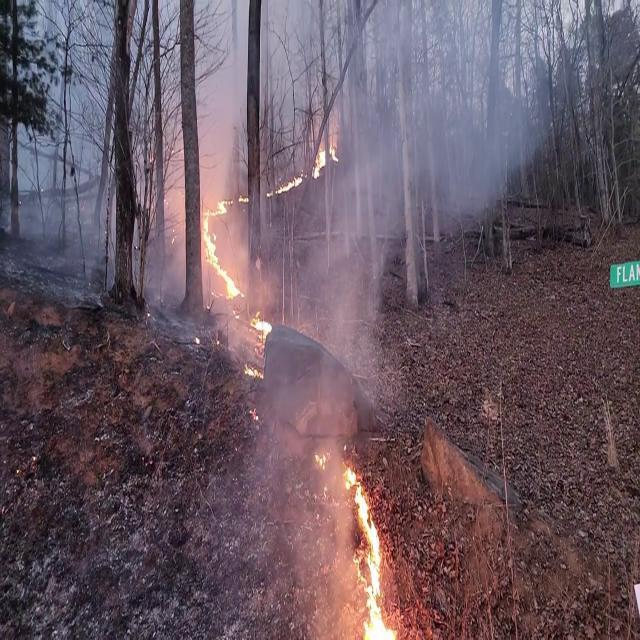Fire: (342, 457, 394, 637), (200, 192, 239, 300), (314, 133, 336, 179), (250, 306, 272, 344), (278, 170, 302, 193)
Smoke: (332, 1, 536, 242), (301, 16, 407, 406)
